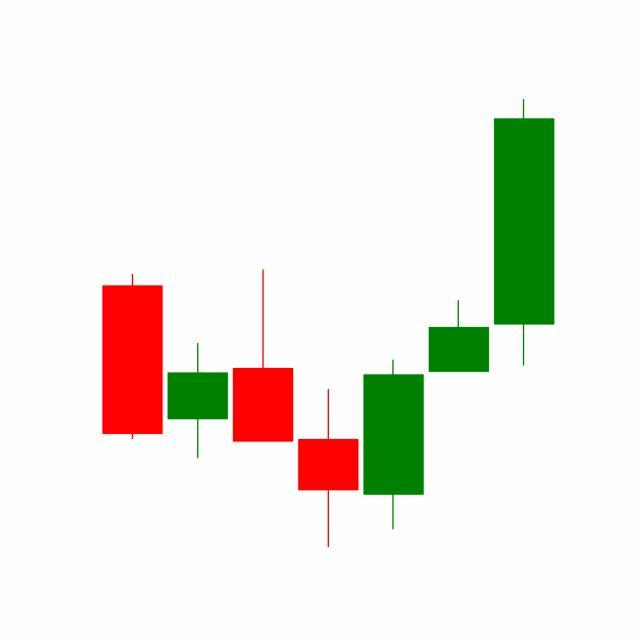Three Outside Up-Down: (295, 297, 492, 548)
